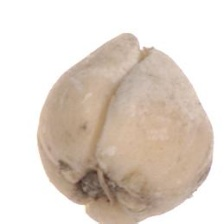L1: (62, 164, 123, 203), (118, 31, 162, 55)
L2: (37, 33, 214, 224)
